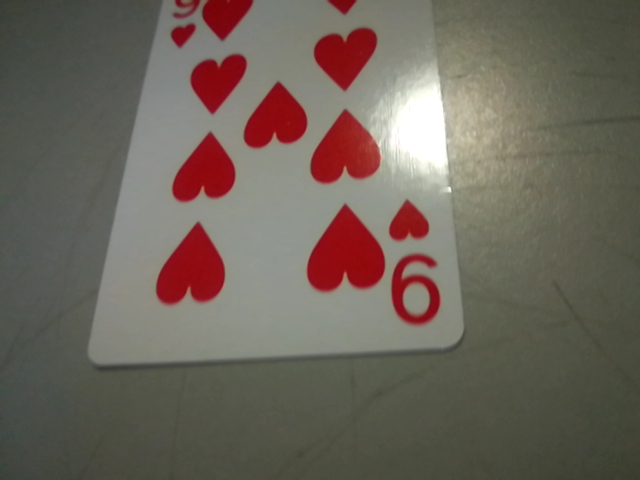hx 9: (382, 193, 456, 337)
